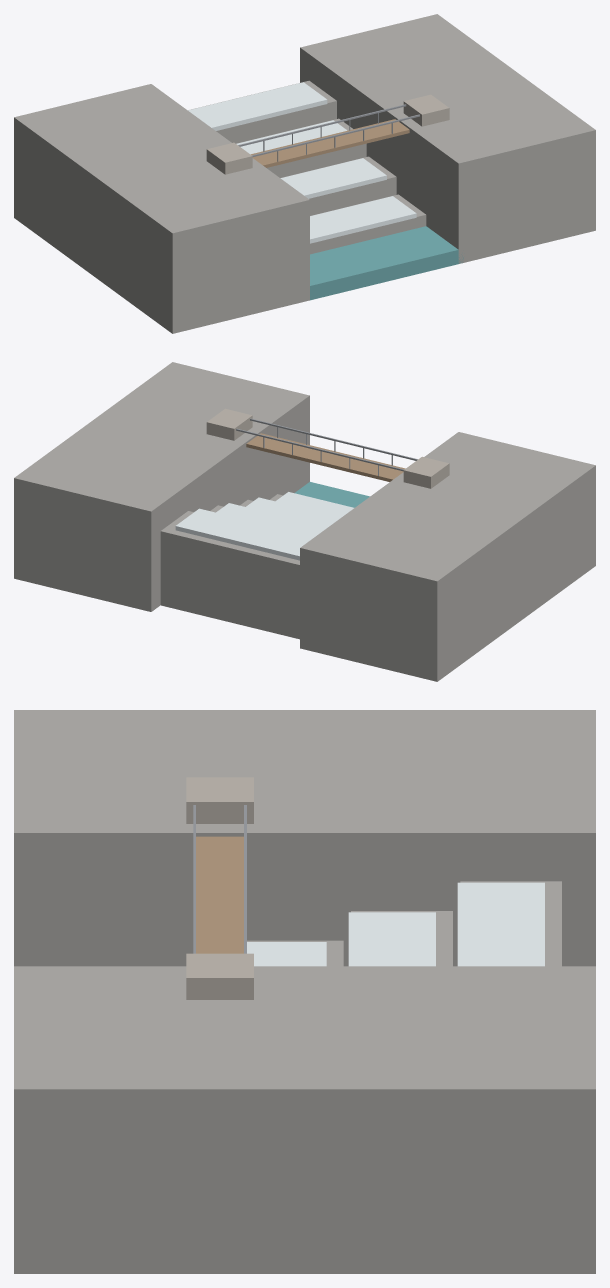
File: lm_105_khu_du_lich_thac_ankroet_va_cau_treo_da_suoi_vang.glb
3 views of the same model, one above another, from view 1: azimuth 30°, elevation 25°; view 2: azimuth 150°, elevation 25°; view 3: azimuth 270°, elevation 25° (orthographic). The views are drawn at different scales.
Visible parts, largest first — view 1: lm_105_khu_du_lich_thac_ankroet_va_cau_treo_da_suoi_vang; view 2: lm_105_khu_du_lich_thac_ankroet_va_cau_treo_da_suoi_vang; view 3: lm_105_khu_du_lich_thac_ankroet_va_cau_treo_da_suoi_vang.
Boxes of the visible parts, box(x1,y1,x2,y2) form: lm_105_khu_du_lich_thac_ankroet_va_cau_treo_da_suoi_vang: box(14, 14, 595, 333); lm_105_khu_du_lich_thac_ankroet_va_cau_treo_da_suoi_vang: box(14, 362, 595, 681); lm_105_khu_du_lich_thac_ankroet_va_cau_treo_da_suoi_vang: box(14, 710, 595, 1273).
Bounding box in the file's own units: 37 × 9.4 × 24.
